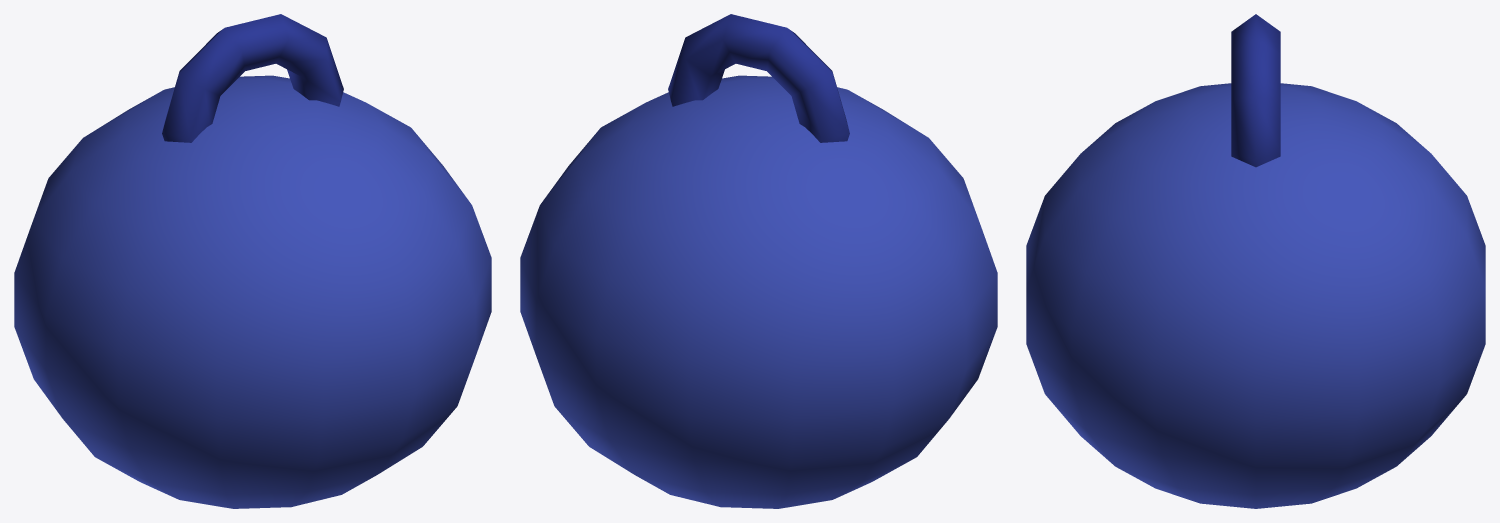
File: blueberry.glb
The picture shows the model from 3 angles, left to right: view 1: azimuth 30°, elevation 25°; view 2: azimuth 150°, elevation 25°; view 3: azimuth 270°, elevation 25°; orthographic projection.
Parts seen in each view (by area): view 1: match/blueberry; view 2: match/blueberry; view 3: match/blueberry.
Boxes of the visible parts, x1,y1,x2,y2 form: match/blueberry: (14, 14, 491, 508); match/blueberry: (520, 14, 997, 508); match/blueberry: (1026, 14, 1485, 508).
Bounding box in the file's own units: 0.934 × 1 × 0.9105.
